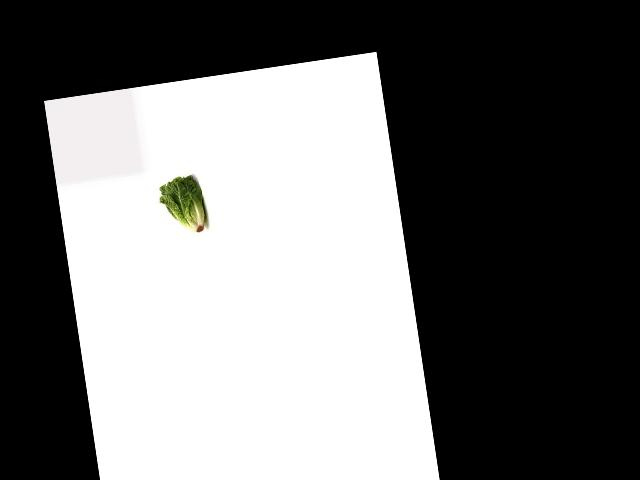lettuce: (156, 173, 209, 240)
